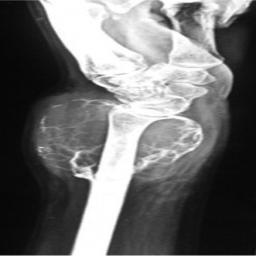cancer: (35, 99, 204, 179)
